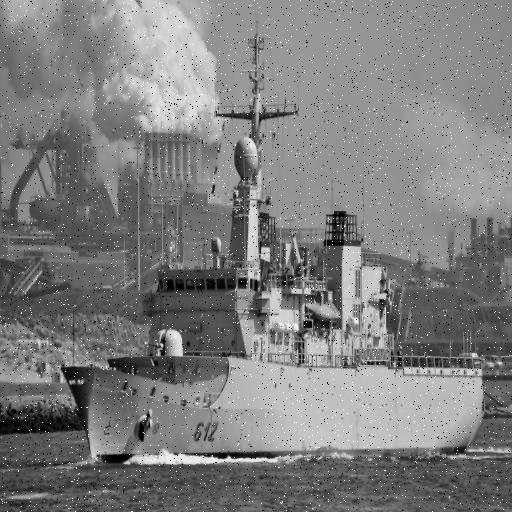Fragata: (60, 20, 486, 461)
